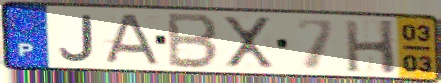7: (295, 17, 337, 72)
A: (99, 13, 164, 67)
B: (166, 11, 221, 72)
H: (342, 18, 399, 76)
J: (58, 14, 97, 63)
X: (220, 15, 277, 70)
